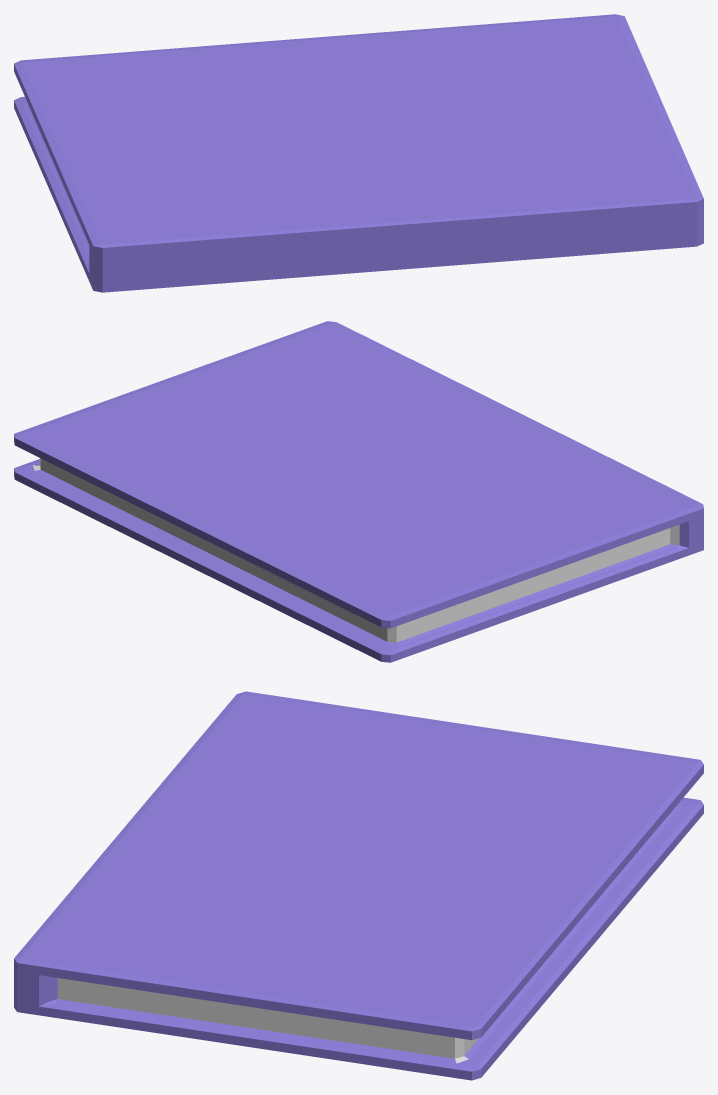
The model's file is book1.fbx.
3 views of the same model, one above another, from view 1: azimuth 30°, elevation 25°; view 2: azimuth 150°, elevation 25°; view 3: azimuth 270°, elevation 25° (orthographic). The views are drawn at different scales.
Visible parts, largest first — view 1: Cube.001; view 2: Cube.001; view 3: Cube.001.
Part boxes in pixels (x1,y1,x2,y2): Cube.001: (14, 14, 703, 292); Cube.001: (14, 321, 703, 662); Cube.001: (14, 691, 703, 1080).
Bounding box in the file's own units: 65.91 × 4.56 × 56.53.
